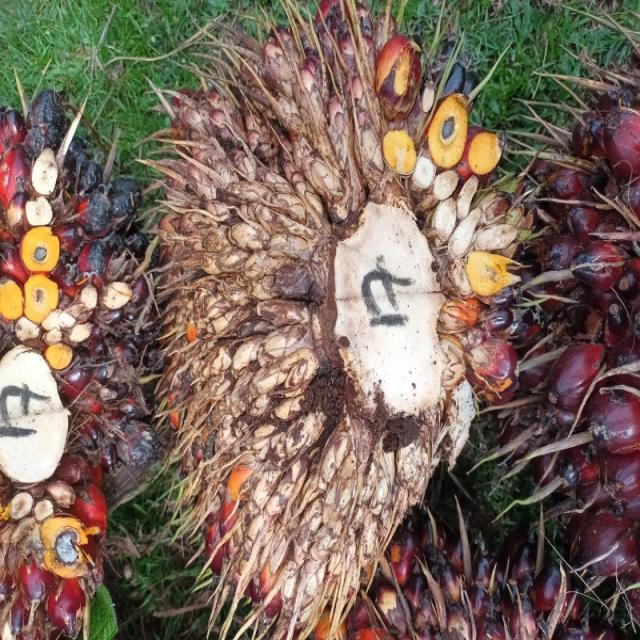fraksi 1: (30, 119, 480, 640)
